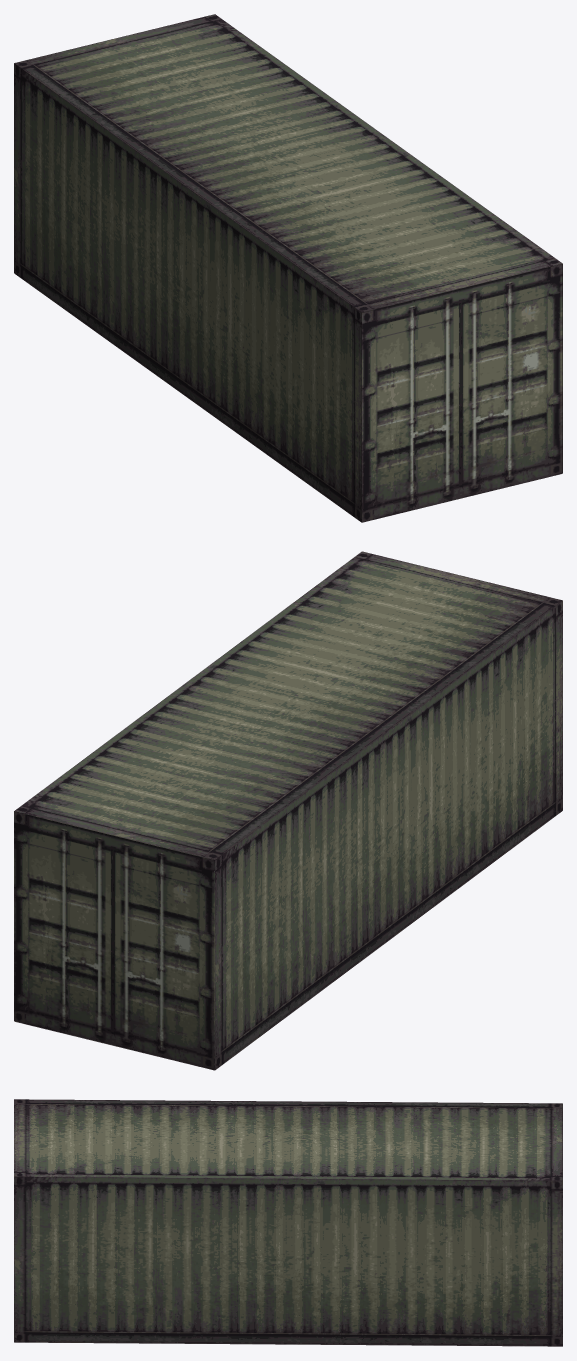
The model's file is SM_EC_ShippingContainer_8.fbx.
The picture shows the model from 3 angles, top to bottom: view 1: azimuth 30°, elevation 25°; view 2: azimuth 150°, elevation 25°; view 3: azimuth 270°, elevation 25°; orthographic projection. The views are drawn at different scales.
Visible parts, largest first — view 1: SM_EC_ShippingContainer_8; view 2: SM_EC_ShippingContainer_8; view 3: SM_EC_ShippingContainer_8.
Part boxes in pixels (box(x1,y1,x2,y2)): SM_EC_ShippingContainer_8: box(14, 14, 562, 522); SM_EC_ShippingContainer_8: box(14, 551, 562, 1070); SM_EC_ShippingContainer_8: box(14, 1099, 562, 1346).
Bounding box in the file's own units: 3 × 9 × 3.07.
